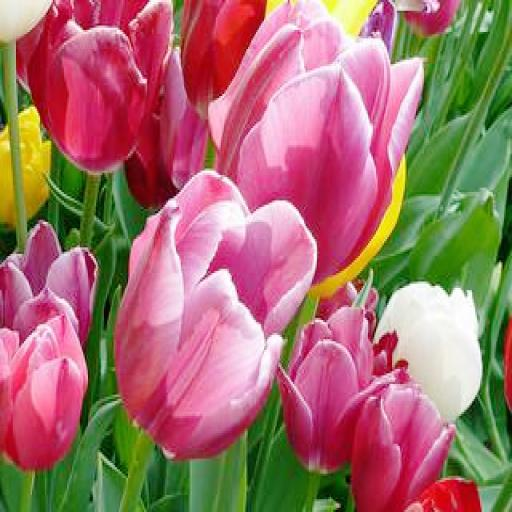tulip: (220, 8, 426, 282), (122, 170, 315, 460), (27, 2, 171, 177), (283, 303, 408, 469), (350, 373, 453, 512), (2, 314, 91, 469)
